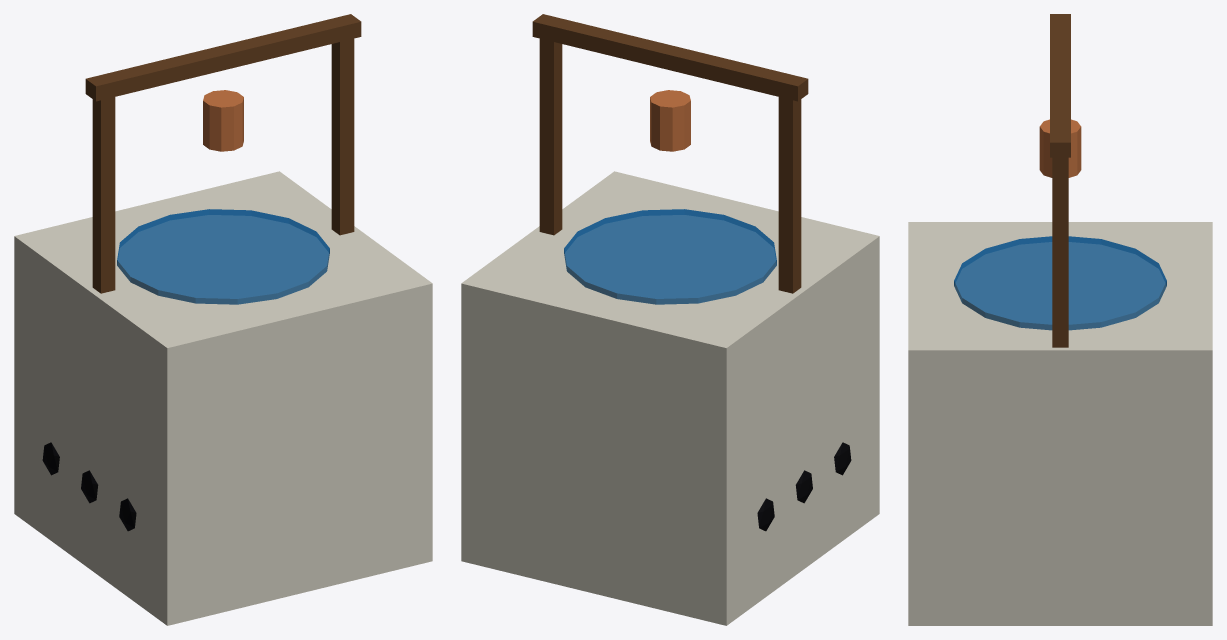
The model's file is Bld_OR_DiceWell_02.glb.
The picture shows the model from 3 angles, left to right: view 1: azimuth 30°, elevation 25°; view 2: azimuth 150°, elevation 25°; view 3: azimuth 270°, elevation 25°; orthographic projection.
Visible parts, largest first — view 1: Bld_OR_DiceWell_02; view 2: Bld_OR_DiceWell_02; view 3: Bld_OR_DiceWell_02.
Boxes of the visible parts, x1,y1,x2,y2 form: Bld_OR_DiceWell_02: [14, 14, 432, 625]; Bld_OR_DiceWell_02: [461, 14, 879, 625]; Bld_OR_DiceWell_02: [908, 14, 1212, 625].
Bounding box in the file's own units: 2.23 × 3.86 × 2.2.
